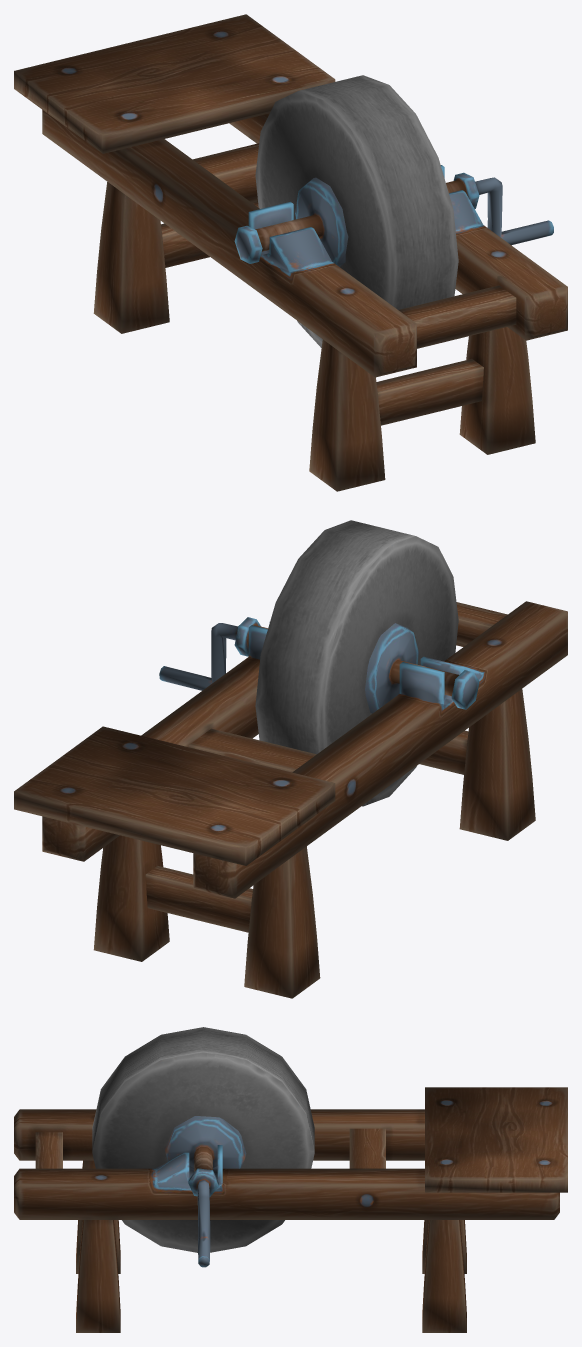
File: grindstone.gltf
3 views of the same model, one above another, from view 1: azimuth 30°, elevation 25°; view 2: azimuth 150°, elevation 25°; view 3: azimuth 270°, elevation 25° (orthographic). The views are drawn at different scales.
Parts seen in each view (by area): view 1: Cube_low, Cylinder_low, Cube.001_low, Cube.002_low, Cylinder.001_low, Cube.006_low, Cube.005_low, Cube.004_low; view 2: Cube_low, Cylinder_low, Cube.001_low, Cube.002_low, Cylinder.001_low, Cube.006_low, Cube.004_low, Cube.005_low; view 3: Cube_low, Cylinder_low, Cube.001_low, Cube.002_low, Cylinder.001_low, Cube.004_low, Cube.005_low.
Part boxes in pixels (bbox=[...]): Cube_low: bbox=[42, 110, 567, 377]; Cylinder_low: bbox=[255, 75, 458, 347]; Cube.001_low: bbox=[14, 14, 335, 153]; Cube.002_low: bbox=[93, 182, 535, 491]; Cylinder.001_low: bbox=[234, 172, 553, 266]; Cube.006_low: bbox=[161, 201, 483, 425]; Cube.005_low: bbox=[398, 285, 516, 348]; Cube.004_low: bbox=[193, 143, 259, 202]; Cube_low: bbox=[42, 601, 567, 898]; Cylinder_low: bbox=[255, 520, 458, 806]; Cube.001_low: bbox=[14, 726, 335, 865]; Cube.002_low: bbox=[93, 689, 535, 998]; Cylinder.001_low: bbox=[159, 617, 479, 713]; Cube.006_low: bbox=[145, 730, 468, 932]; Cube.004_low: bbox=[188, 728, 316, 772]; Cube.005_low: bbox=[456, 602, 507, 646]; Cube_low: bbox=[14, 1109, 559, 1219]; Cylinder_low: bbox=[92, 1027, 314, 1252]; Cube.001_low: bbox=[425, 1087, 567, 1192]; Cube.002_low: bbox=[76, 1160, 466, 1332]; Cylinder.001_low: bbox=[164, 1116, 246, 1267]; Cube.004_low: bbox=[349, 1128, 385, 1168]; Cube.005_low: bbox=[35, 1132, 62, 1168].
Bounding box in the file's own units: 104 × 101 × 200.
1 material, 1 textured.
